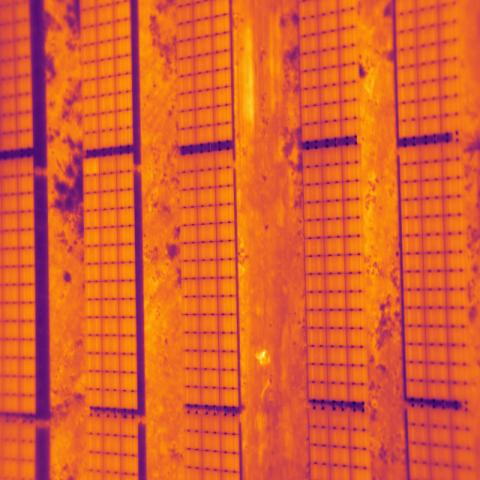fault: (82, 158, 100, 175)
